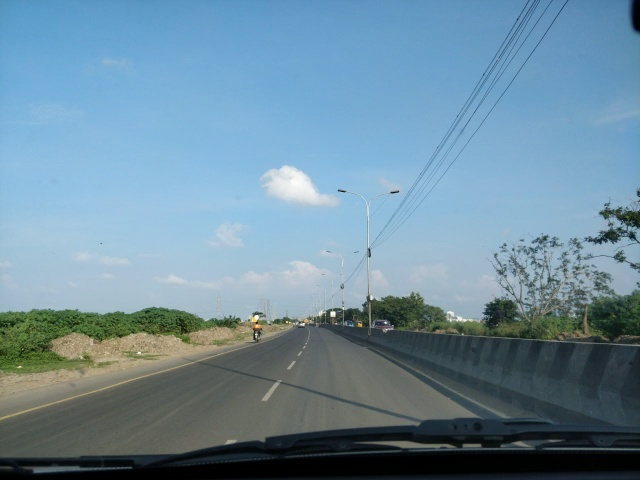auto: (355, 319, 363, 330)
car: (371, 318, 395, 339), (298, 321, 306, 329)
motorbike: (251, 317, 266, 347)
